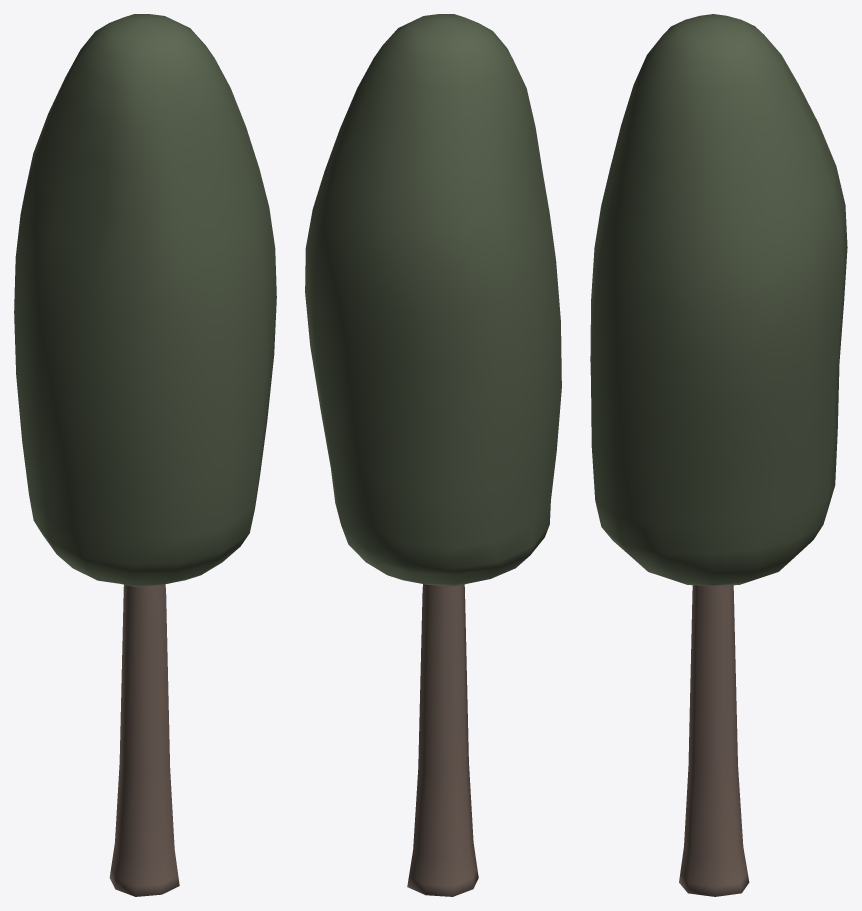
File: Tree_Long_Green.fbx
3 views of the same model, side by side, from view 1: azimuth 30°, elevation 25°; view 2: azimuth 150°, elevation 25°; view 3: azimuth 270°, elevation 25° (orthographic).
Parts seen in each view (by area): view 1: Leaves, Trunk; view 2: Leaves, Trunk; view 3: Leaves, Trunk.
Part boxes in pixels (x1=…): Leaves: x1=14, y1=14, x2=276, y2=586; Trunk: x1=109, y1=584, x2=179, y2=896; Leaves: x1=305, y1=14, x2=561, y2=586; Trunk: x1=407, y1=584, x2=478, y2=896; Leaves: x1=590, y1=14, x2=847, y2=586; Trunk: x1=679, y1=585, x2=749, y2=896.
Bounding box in the file's own units: 0.6382 × 2.34 × 0.6327.
